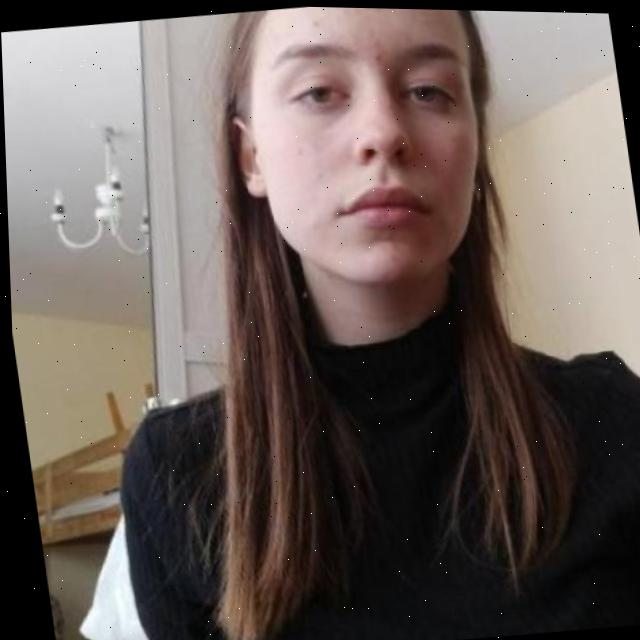Acne: (294, 146, 305, 158), (373, 52, 382, 62)
